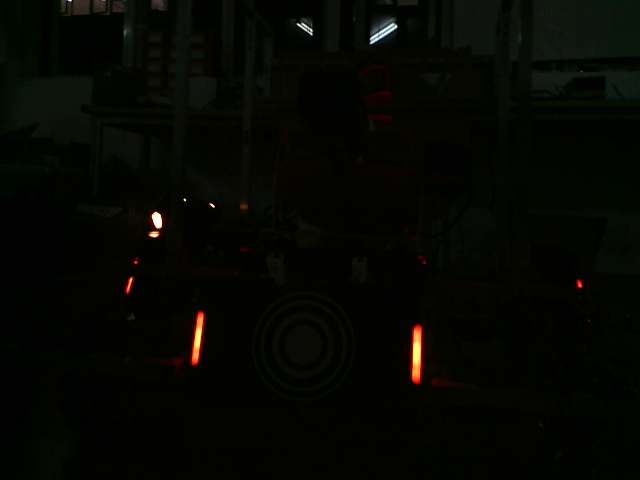lamp: (406, 323, 426, 386), (188, 308, 206, 369)
